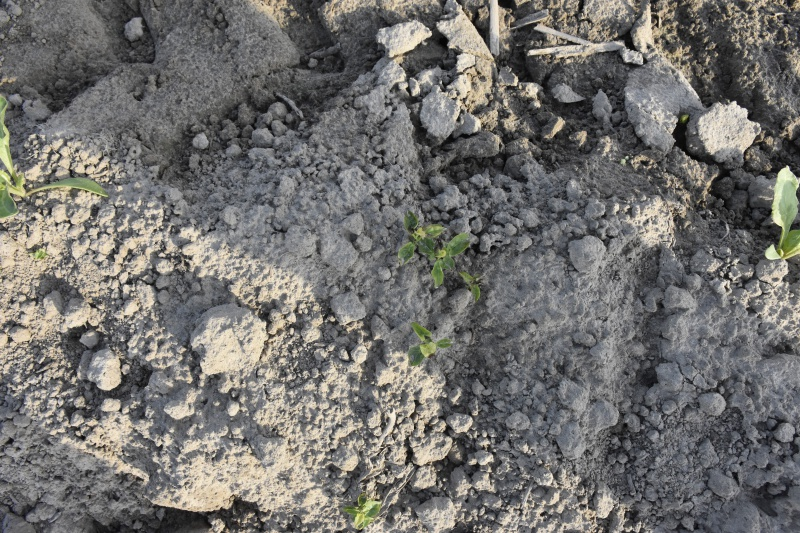field bindweed: (404, 210, 483, 299), (407, 322, 454, 364), (341, 490, 379, 529)
sugar beet: (1, 95, 112, 222), (768, 164, 800, 271)
